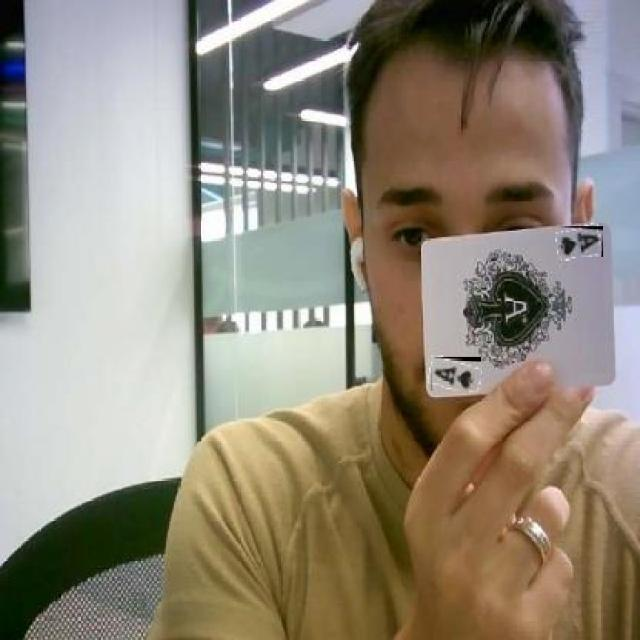AS: (430, 358, 481, 390), (557, 226, 603, 257)
